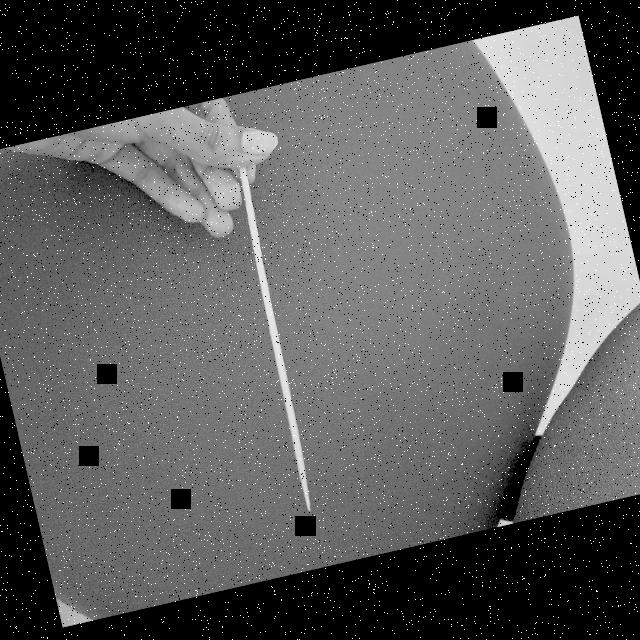stick: (220, 158, 330, 520)
